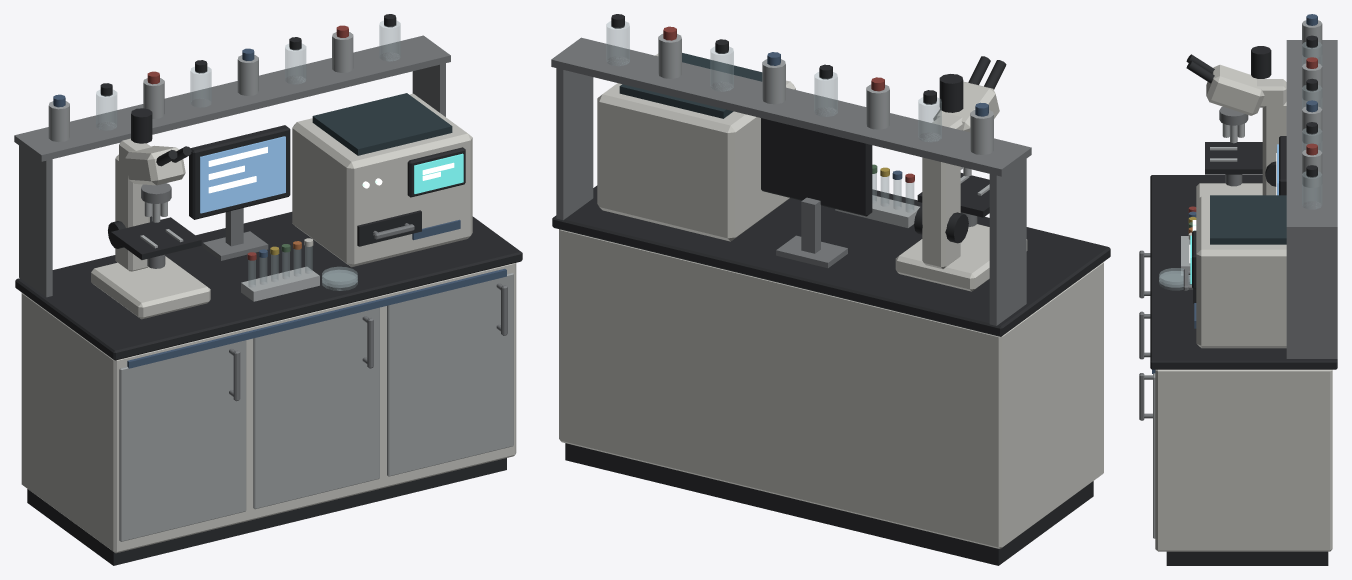
Rendered from astro_research_microscope.fbx.
The picture shows the model from 3 angles, left to right: view 1: azimuth 30°, elevation 25°; view 2: azimuth 150°, elevation 25°; view 3: azimuth 270°, elevation 25°; orthographic projection. The views are drawn at different scales.
Visible parts, largest first — view 1: ResearchMicroscope_Body; view 2: ResearchMicroscope_Body; view 3: ResearchMicroscope_Body.
Boxes of the visible parts, left/top/right/bottom form: ResearchMicroscope_Body: left=14, top=14, right=522, bottom=565; ResearchMicroscope_Body: left=551, top=14, right=1110, bottom=565; ResearchMicroscope_Body: left=1139, top=14, right=1337, bottom=565.
Size of the model in its own units: 260 by 247 by 117.
